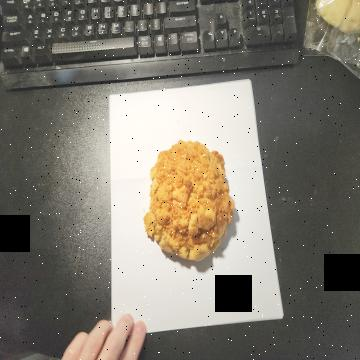soboru_bread: (145, 138, 234, 261)
